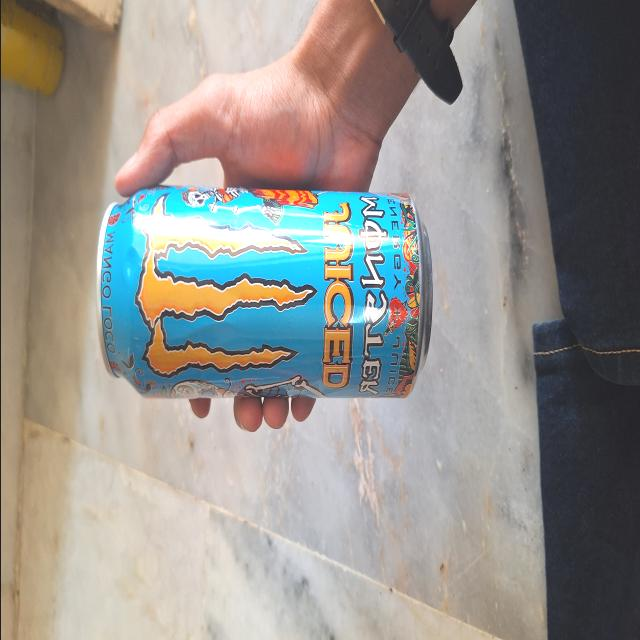Monster Mango Loco: (96, 159, 436, 415)
